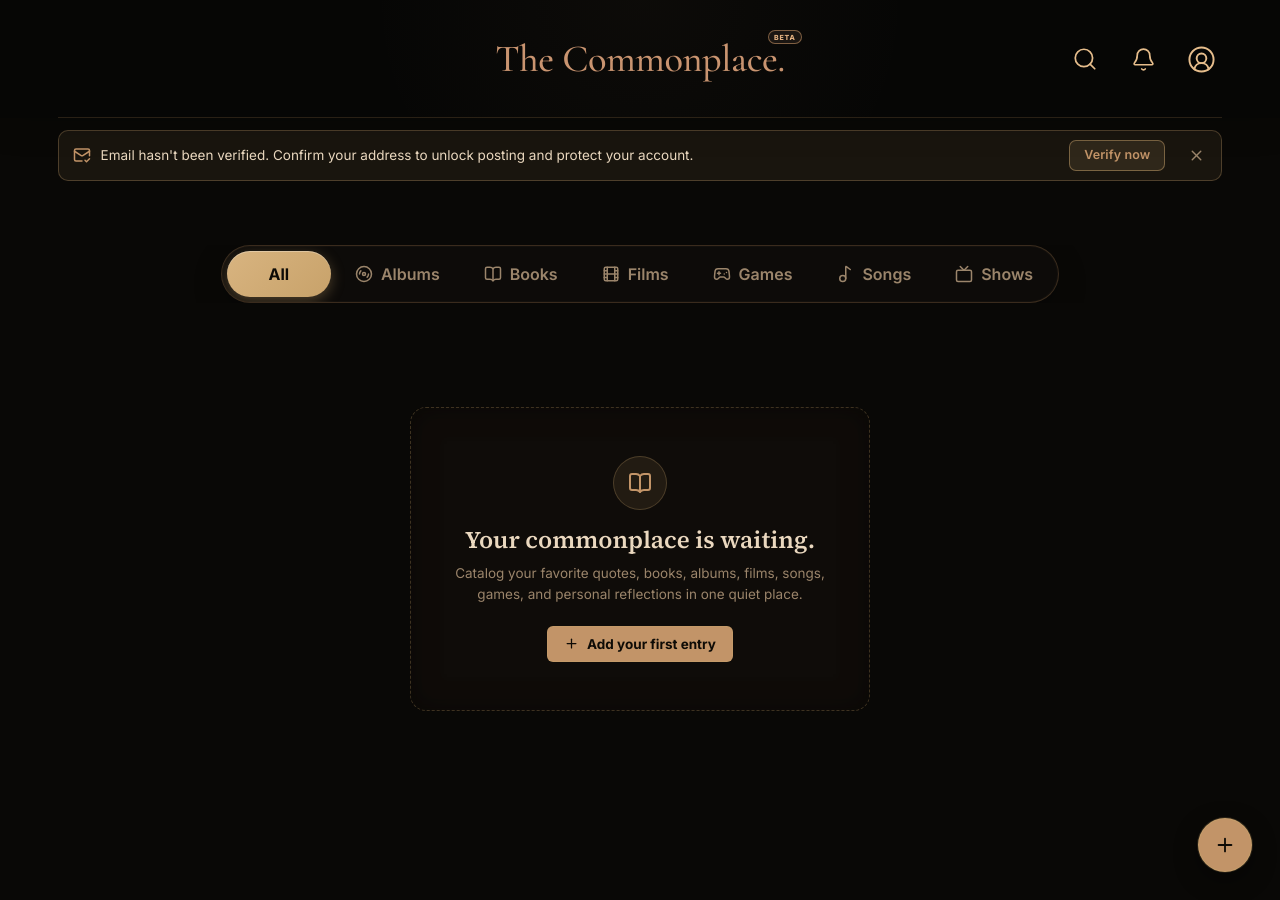
it: application shell › blocks posting until the signed-in email is verified
Check: the text "Email hasn't been verified" is shown, box [101,147,693,163]
Check: the button named "Dismiss email verification reminder" is shown, box [1181,140,1211,170]
Click the button named "Add new entry" at coordinates (1225, 845), box [1198,818,1252,872]
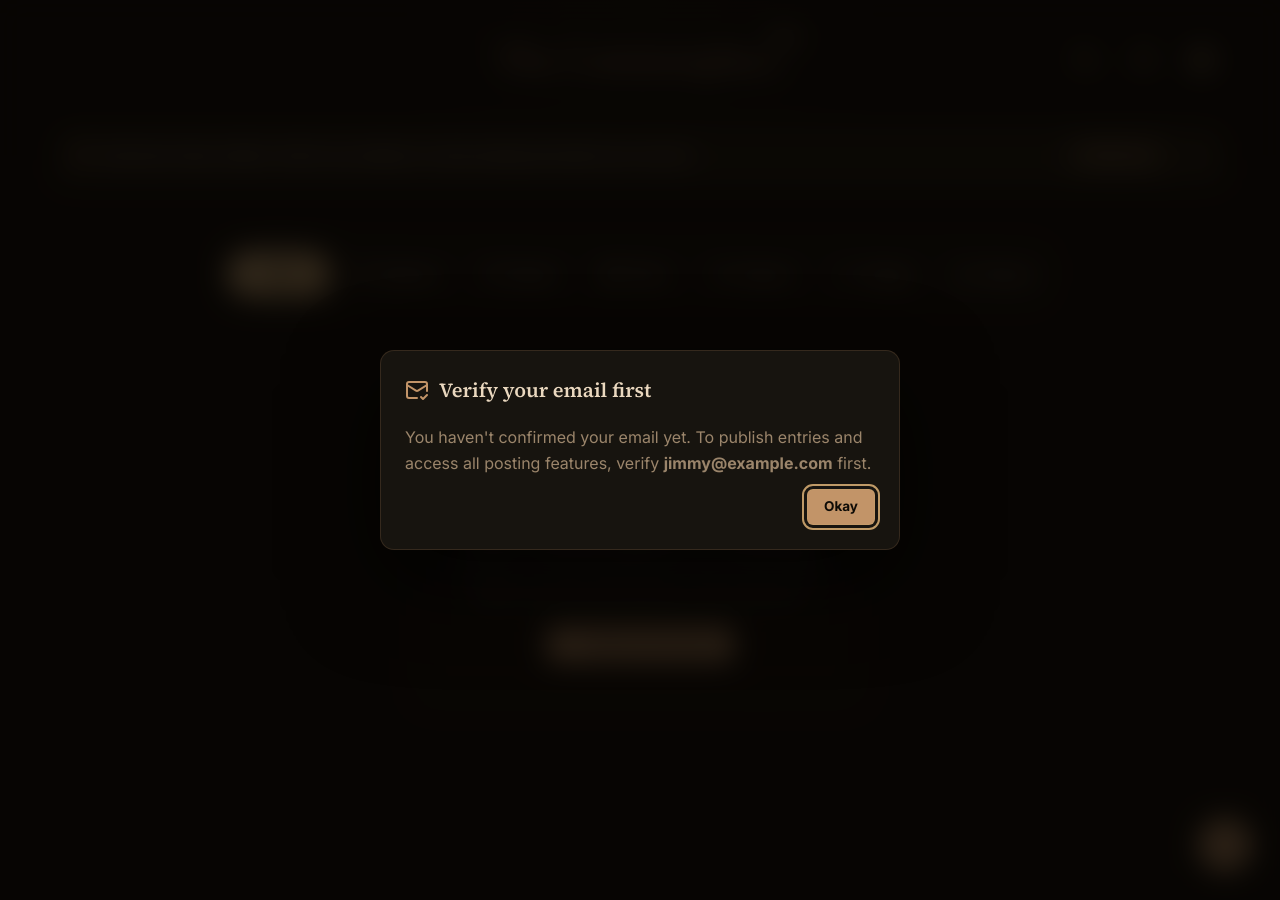
Check: the dialog "Verify your email first" is shown, box [380,350,900,550]
Check: the text "jimmy@example.com" is shown, box [664,453,833,473]
Check: the button "Okay" is shown, box [807,489,875,525]
